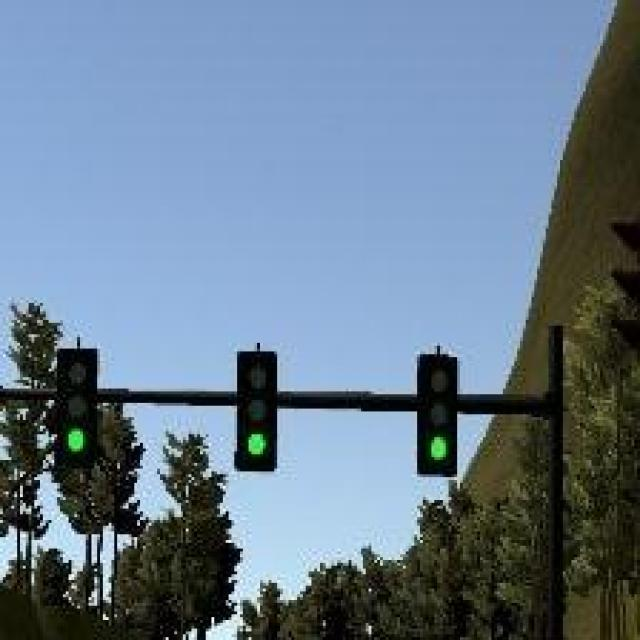green_light: (54, 348, 100, 462), (417, 354, 457, 477), (237, 352, 277, 472)
